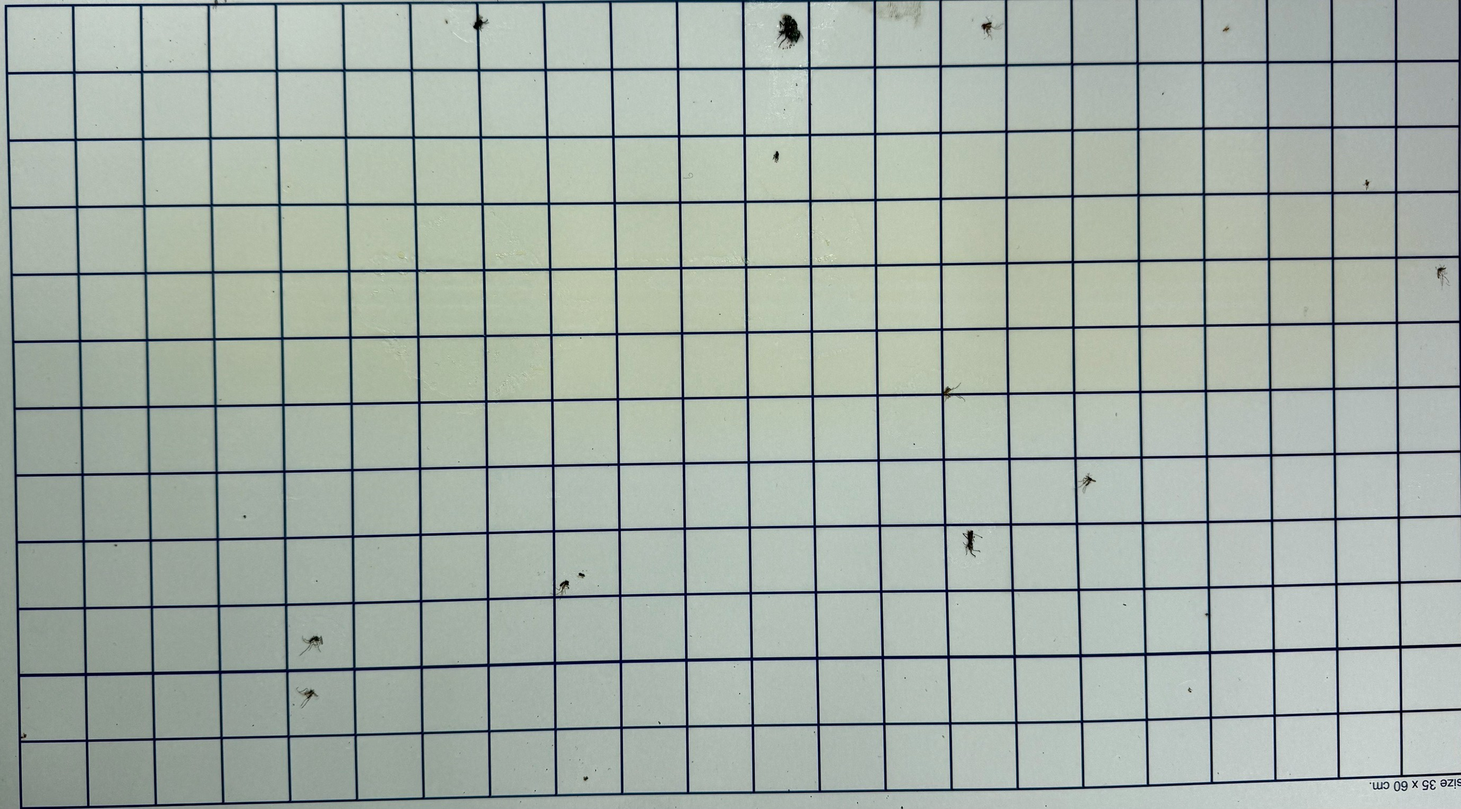fly: (778, 14, 802, 48), (473, 15, 488, 32)
test: (961, 530, 982, 559), (297, 684, 319, 710), (301, 630, 327, 652), (1436, 265, 1451, 291), (1077, 473, 1097, 492), (552, 579, 570, 598), (942, 385, 964, 399), (982, 20, 996, 38), (1362, 178, 1370, 189), (581, 775, 591, 783), (1221, 25, 1230, 32), (1187, 685, 1194, 694), (1204, 611, 1211, 618), (775, 151, 779, 163), (577, 572, 585, 578), (21, 734, 27, 740), (241, 514, 247, 520)
